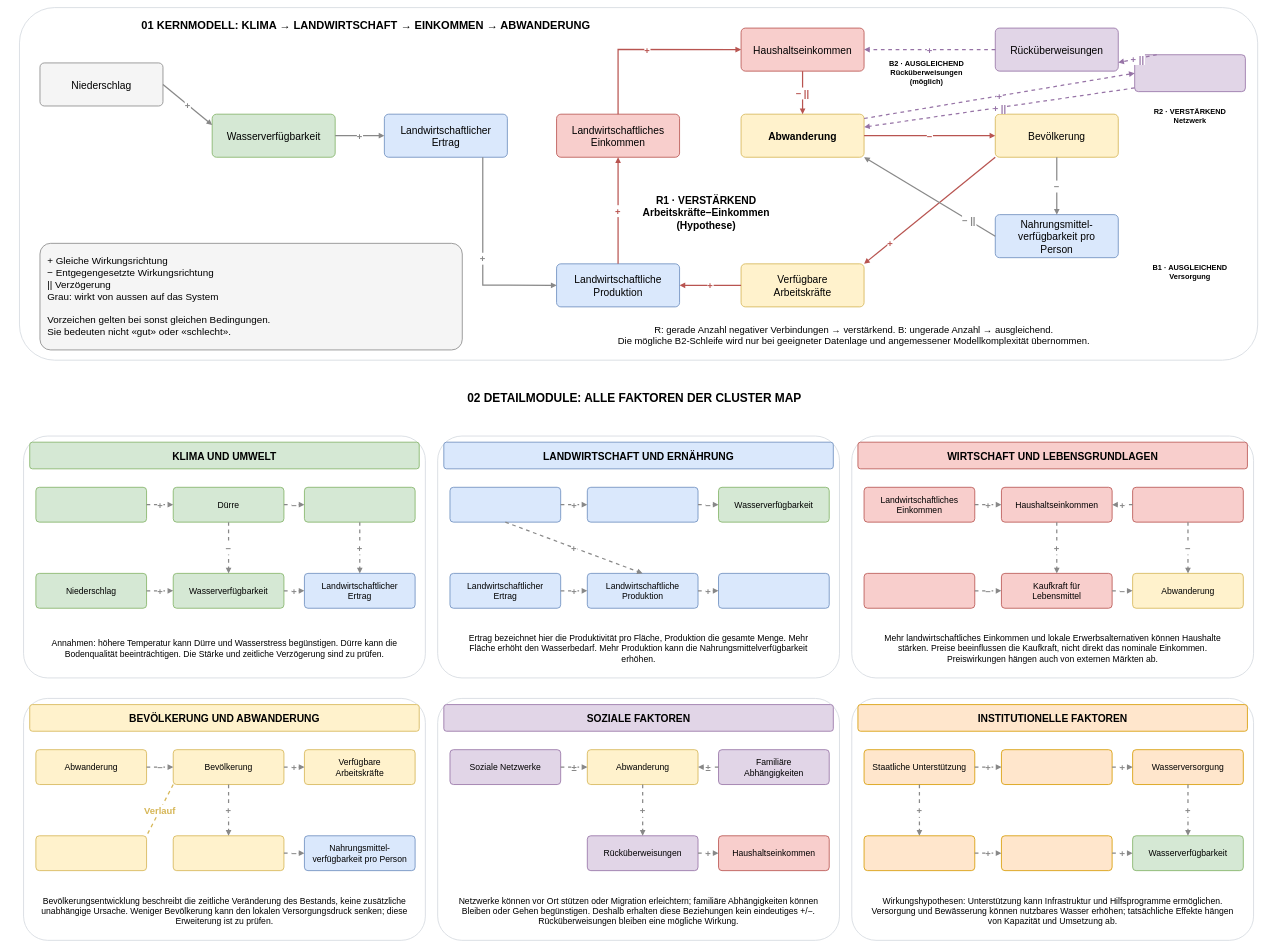
Image size: 1269x948. Some labels were removed from this diagram. The box of each missing label's shape, as (x1, y1, x2, y2) in pixels:
Abgewanderte Personen: (1134, 54, 1246, 92)
Bevölkerungsentwicklung (Veränderung des Bestands): (35, 835, 147, 871)
Bewässerung: (1001, 835, 1112, 871)
Bodenqualität: (304, 487, 415, 522)
Infrastruktur: (1001, 749, 1112, 785)
Landwirtschaftliche Hilfsprogramme: (863, 835, 975, 871)
Lebensmittelpreise: (863, 573, 975, 608)
Lokaler Versorgungsdruck: (173, 835, 284, 871)
Nahrungsmittel- verfügbarkeit: (718, 573, 829, 608)
Temperatur: (35, 487, 147, 522)
Verfügbare Anbaufläche: (449, 487, 561, 522)
Wasserbedarf der Landwirtschaft: (587, 487, 698, 522)
Wirtschaftliche Alternativen vor Ort: (1132, 487, 1244, 522)
